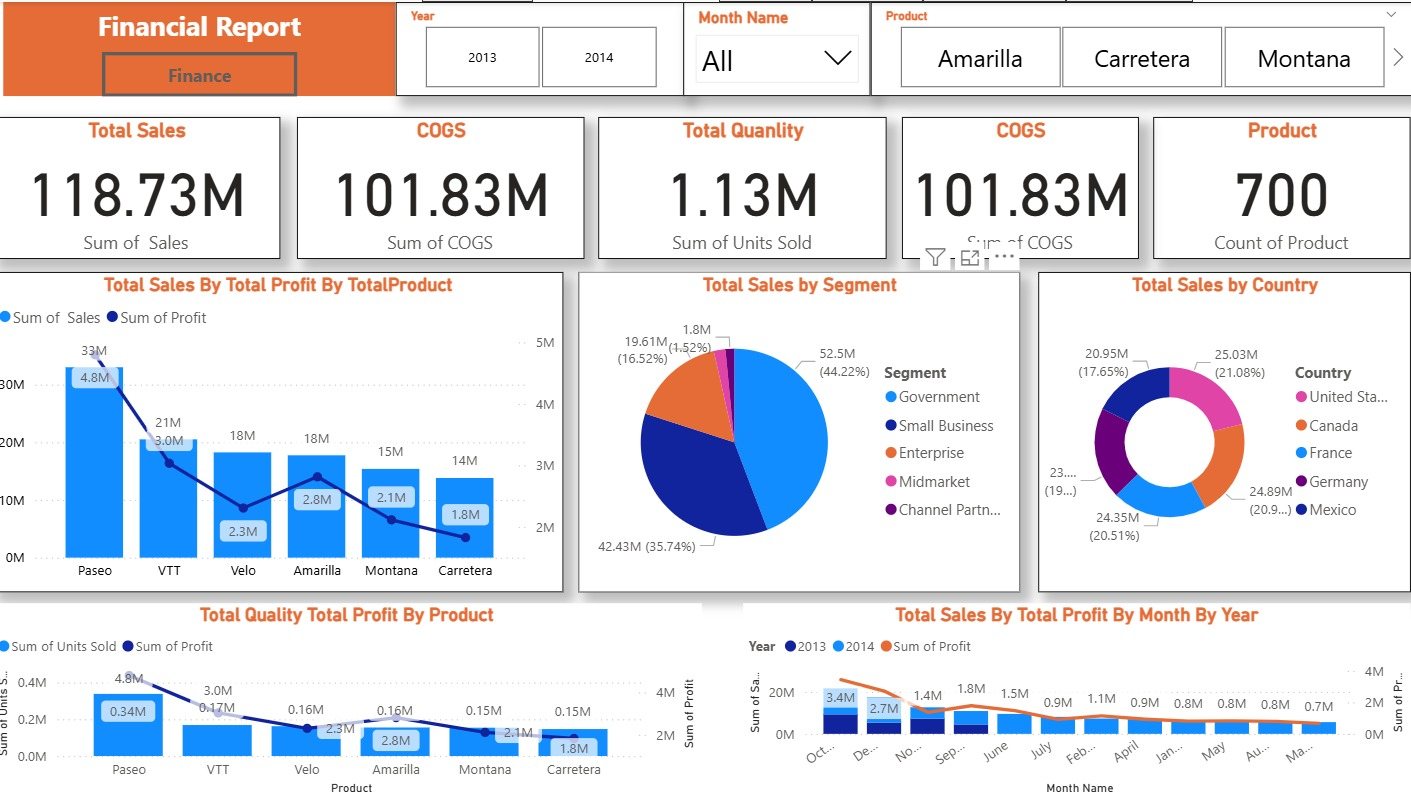

This screenshot's page, from the dashboard's own definition file:
{"tool":"powerbi","page":{"name":"Q9-POWER BI","canvas":[1280,720],"ordinal":0},"visuals":[{"type":"textbox","box":[10.1,0,353.5,85.1],"z":0},{"type":"slicer","title":"Year","fields":{"Values":["financials.Year"]},"box":[363.6,0,259.7,85.1],"z":1000},{"type":"slicer","fields":{"Values":["financials.Month Name"]},"box":[623.3,0,168.8,85.1],"z":2000},{"type":"slicer","fields":{"Values":["financials.Product"]},"box":[792.1,0,487.7,85.1],"z":3000},{"type":"card","title":"Total Sales","fields":{"Values":["Sum(financials. Sales)"]},"box":[0,103.8,260.3,128],"z":4000},{"type":"card","title":"COGS","fields":{"Values":["Sum(financials.COGS)"]},"box":[274.5,103.8,258.8,128],"z":5000},{"type":"card","title":"Total Quanlity","fields":{"Values":["Sum(financials.Units Sold)"]},"box":[546.1,103.8,260.3,128],"z":6000},{"type":"card","title":"Product","fields":{"Values":["CountNonNull(financials.Product)"]},"box":[1046.8,103.8,231.8,128],"z":7000},{"type":"card","title":"COGS","fields":{"Values":["Sum(financials.COGS)"]},"box":[820.6,103.8,213.3,128],"z":8000},{"type":"lineStackedColumnComboChart","title":"Total Sales By Total Profit By TotalProduct","fields":{"Category":["financials.Product"],"Y":["Sum(financials. Sales)"],"Y2":["Sum(financials.Profit)"]},"box":[0,243.2,514.8,288.7],"z":9000},{"type":"pieChart","title":"Total Sales by Segment","fields":{"Y":["Sum(financials. Sales)"],"Category":["financials.Segment"]},"box":[529.1,243.2,398.2,288.7],"z":10000},{"type":"donutChart","title":"Total Sales by Country","fields":{"Category":["financials.Country"],"Y":["Sum(financials. Sales)"]},"box":[942.9,243.2,335.6,288.7],"z":11000},{"type":"lineStackedColumnComboChart","title":"Total Quality Total Profit By Product","fields":{"Category":["financials.Product"],"Y":["Sum(financials.Units Sold)"],"Y2":["Sum(financials.Profit)"]},"box":[0,541.9,640,177.8],"z":12000},{"type":"lineStackedColumnComboChart","title":"Total Sales By Total Profit By Month By Year","fields":{"Y":["Sum(financials. Sales)"],"Category":["financials.Month Name"],"Y2":["Sum(financials.Profit)"],"Series":["financials.Year"]},"box":[677,541.9,601.6,177.8],"z":13000},{"type":"actionButton","box":[99.6,44.7,176,40.4],"z":14000}]}

Visuals, with their boxes in screenshot pixels (x1, y1, x2, y2), scaled from the page's 1280x720 canvas onto the 1411x797 screenshot:
textbox: select_region(11, 0, 401, 94)
"Year" slicer: select_region(401, 0, 687, 94)
slicer - financials.Month Name: select_region(687, 0, 873, 94)
slicer - financials.Product: select_region(873, 0, 1410, 94)
"Total Sales" card: select_region(0, 115, 287, 257)
"COGS" card: select_region(303, 115, 588, 257)
"Total Quanlity" card: select_region(602, 115, 889, 257)
"Product" card: select_region(1154, 115, 1409, 257)
"COGS" card: select_region(905, 115, 1140, 257)
"Total Sales By Total Profit By TotalProduct" lineStackedColumnComboChart: select_region(0, 269, 567, 589)
"Total Sales by Segment" pieChart: select_region(583, 269, 1022, 589)
"Total Sales by Country" donutChart: select_region(1039, 269, 1409, 589)
"Total Quality Total Profit By Product" lineStackedColumnComboChart: select_region(0, 600, 706, 796)
"Total Sales By Total Profit By Month By Year" lineStackedColumnComboChart: select_region(746, 600, 1409, 796)
actionButton: select_region(110, 49, 304, 94)
